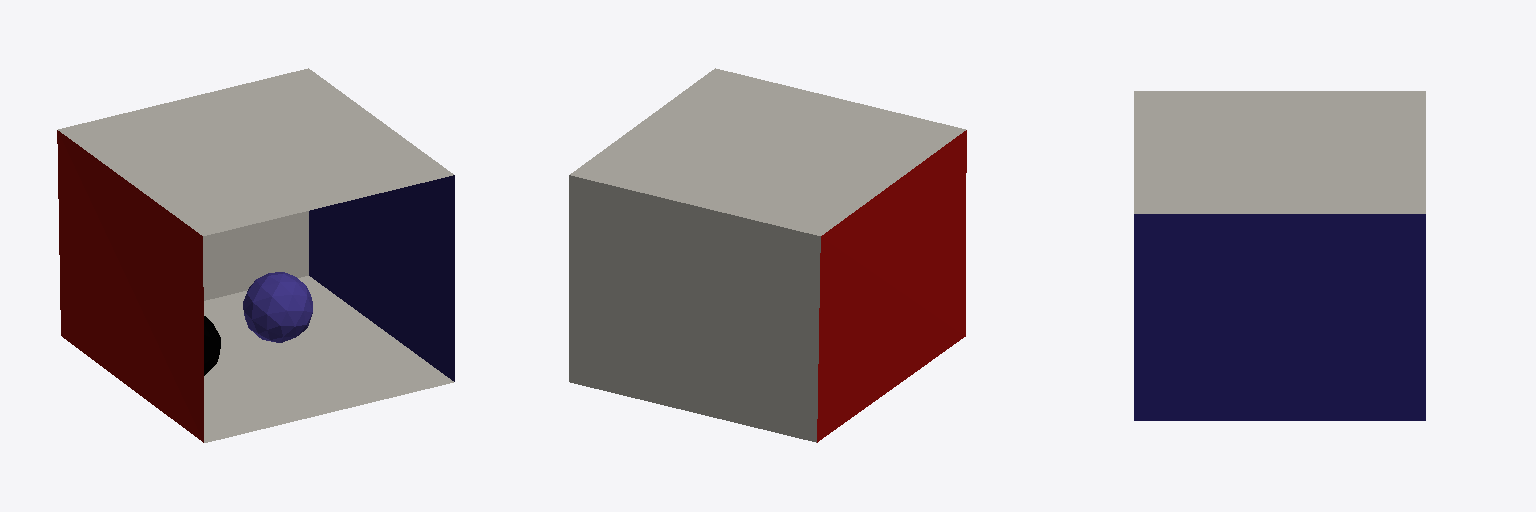
The model's file is CornellBox-Sphere-1244.obj.
3 renders of one model, left to right at view 1: azimuth 30°, elevation 25°; view 2: azimuth 150°, elevation 25°; view 3: azimuth 270°, elevation 25°, orthographic.
Parts seen in each view (by area): view 1: ceiling, leftWall, floor, rightWall, backWall, leftSphere, rightSphere; view 2: backWall, ceiling, leftWall; view 3: rightWall, ceiling.
Part boxes in pixels (left/top/right/bottom): ceiling: left=58, top=68, right=453, bottom=235; leftWall: left=57, top=130, right=203, bottom=442; floor: left=204, top=276, right=453, bottom=442; rightWall: left=309, top=175, right=454, bottom=381; backWall: left=203, top=211, right=308, bottom=300; leftSphere: left=243, top=272, right=312, bottom=342; rightSphere: left=204, top=316, right=220, bottom=375; backWall: left=569, top=175, right=820, bottom=442; ceiling: left=570, top=68, right=965, bottom=235; leftWall: left=817, top=130, right=966, bottom=442; rightWall: left=1134, top=214, right=1425, bottom=420; ceiling: left=1134, top=91, right=1425, bottom=213.
Size of the model in its own units: 2.02 by 1.59 by 2.03.